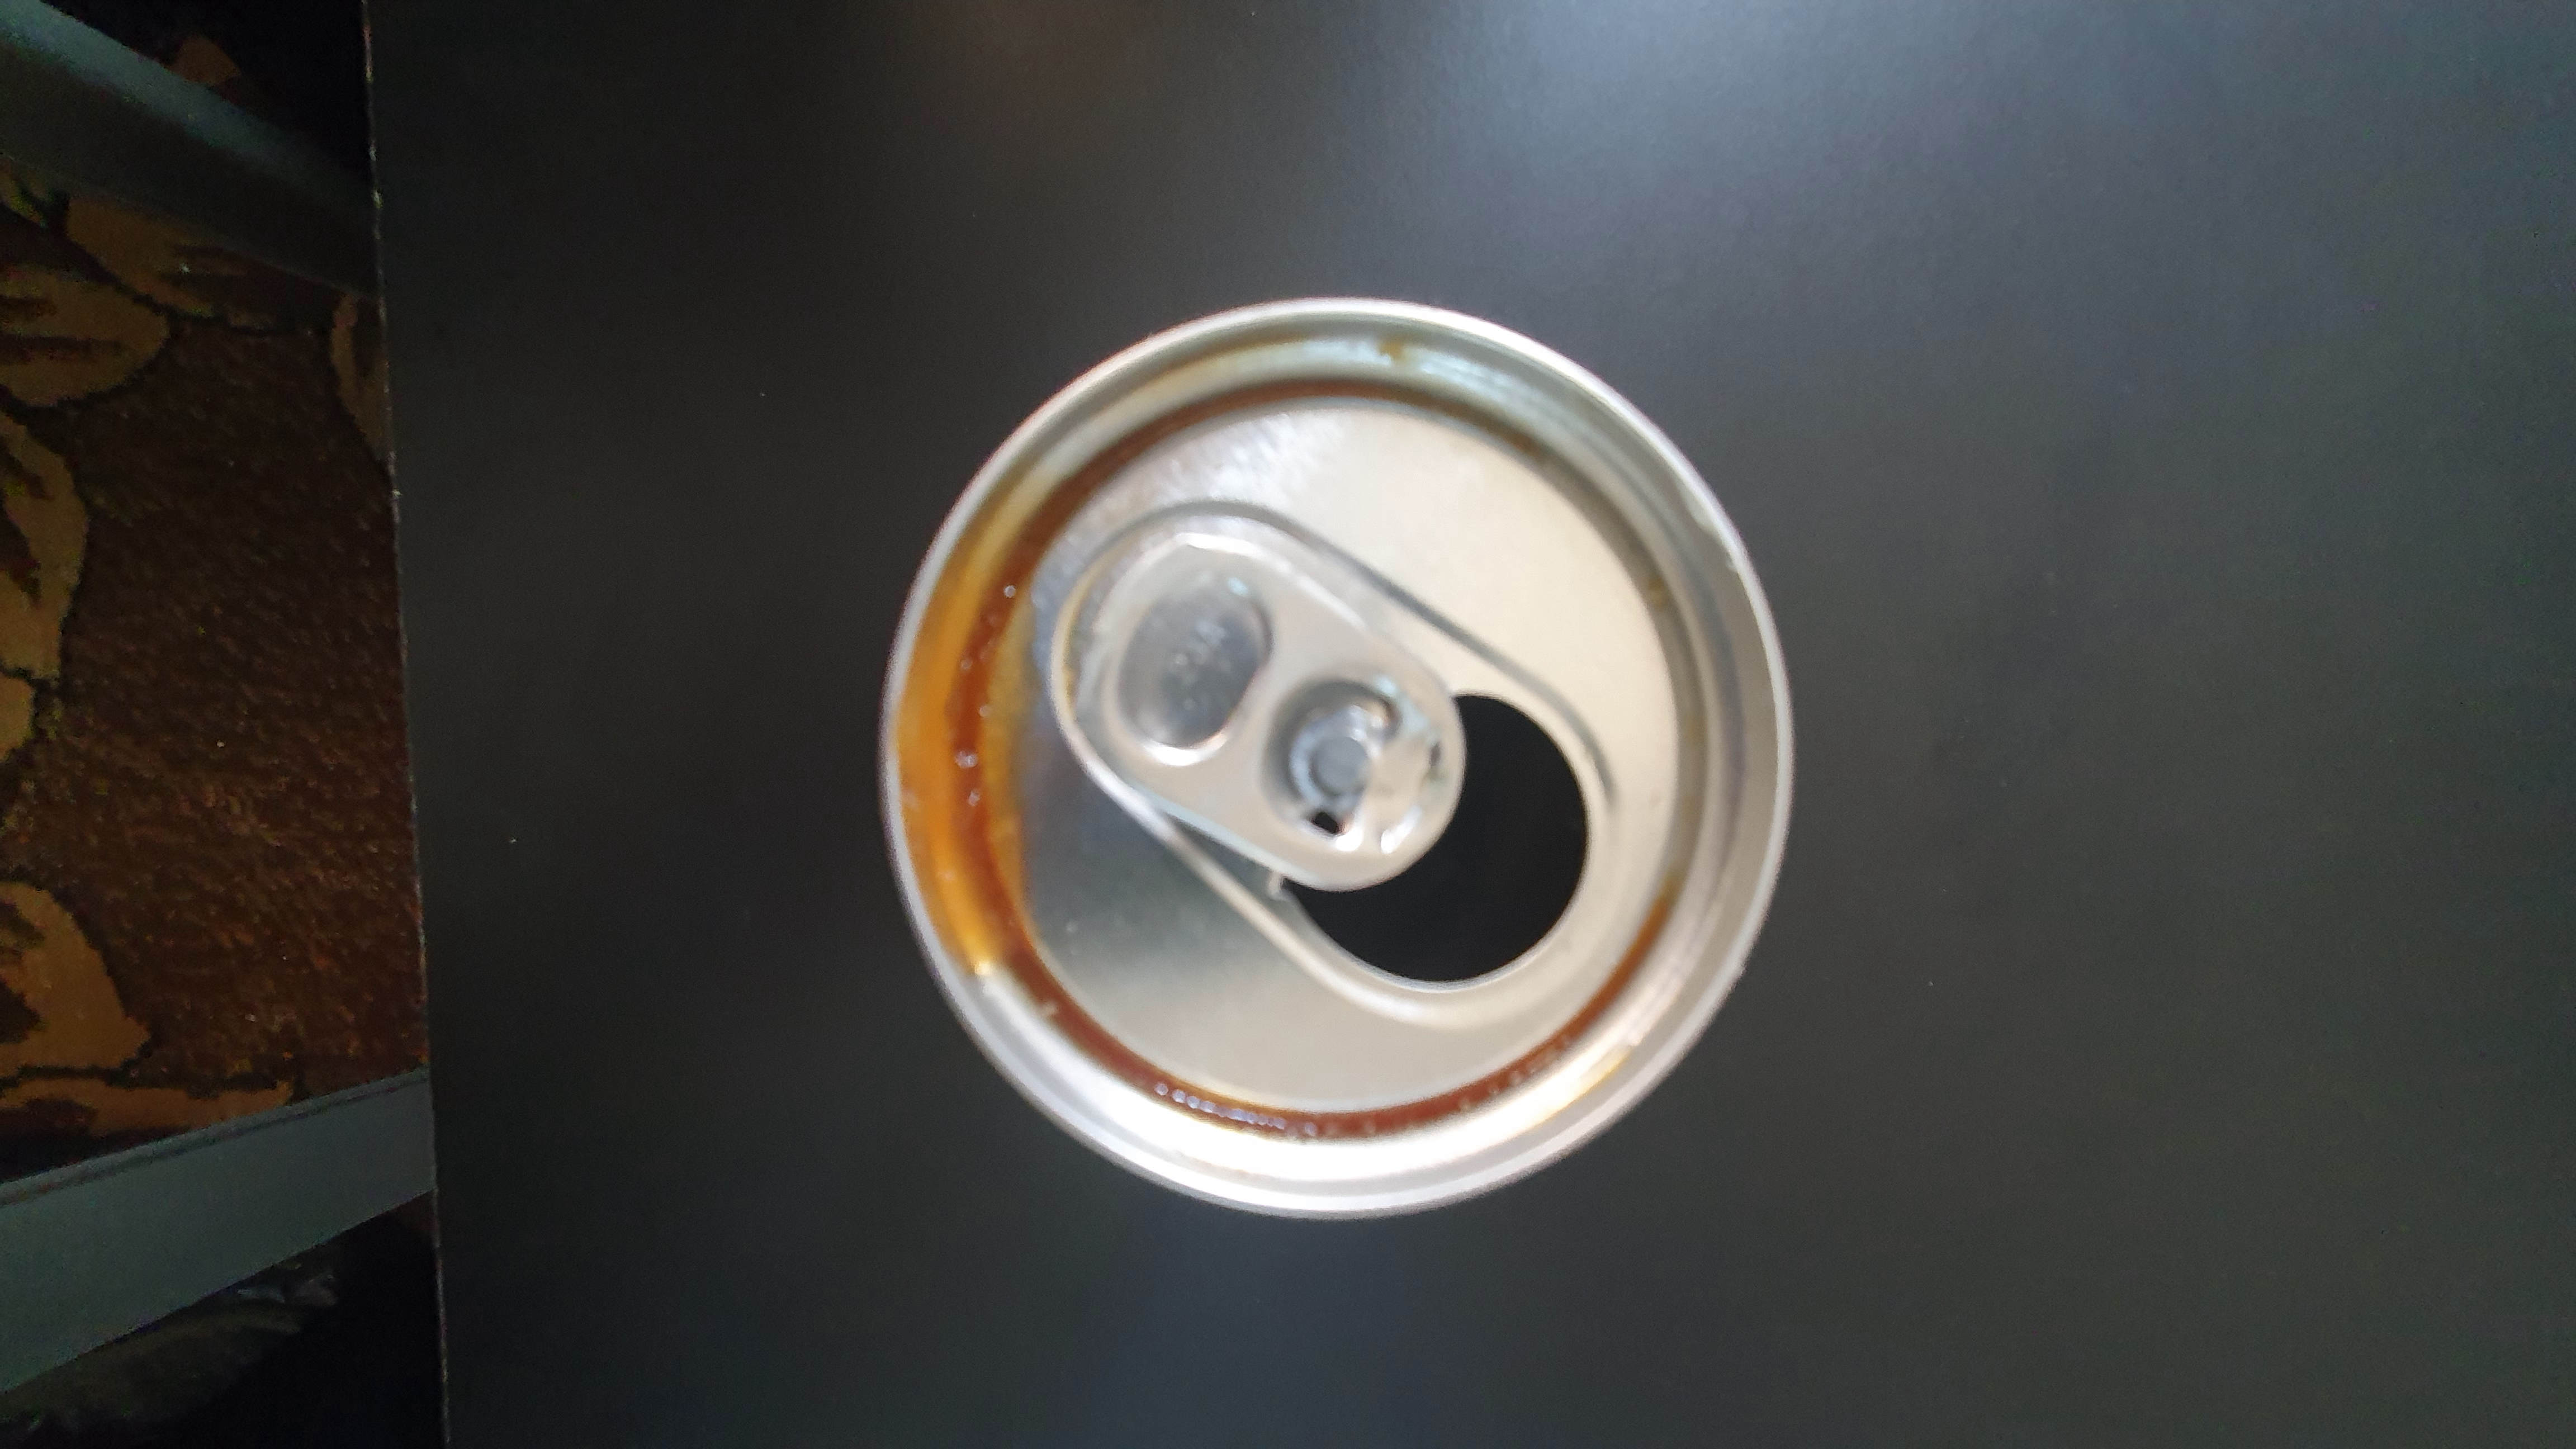metal: (828, 239, 1842, 1256)
